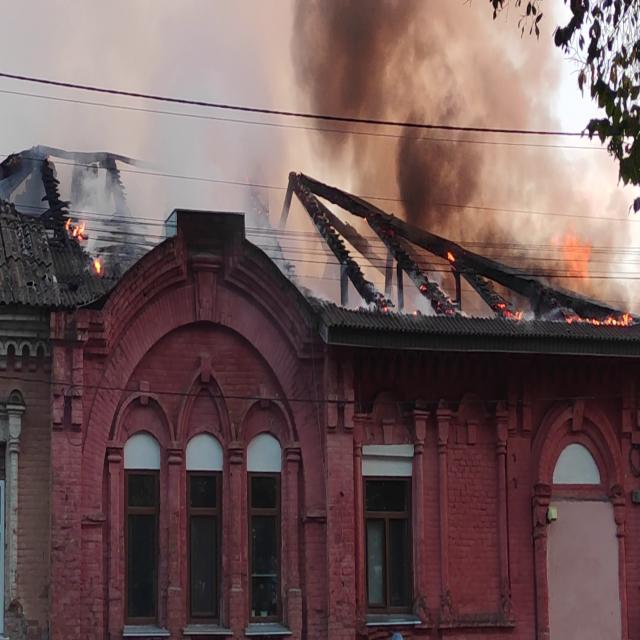fire: (556, 228, 637, 338)
smoke: (342, 0, 496, 219)
